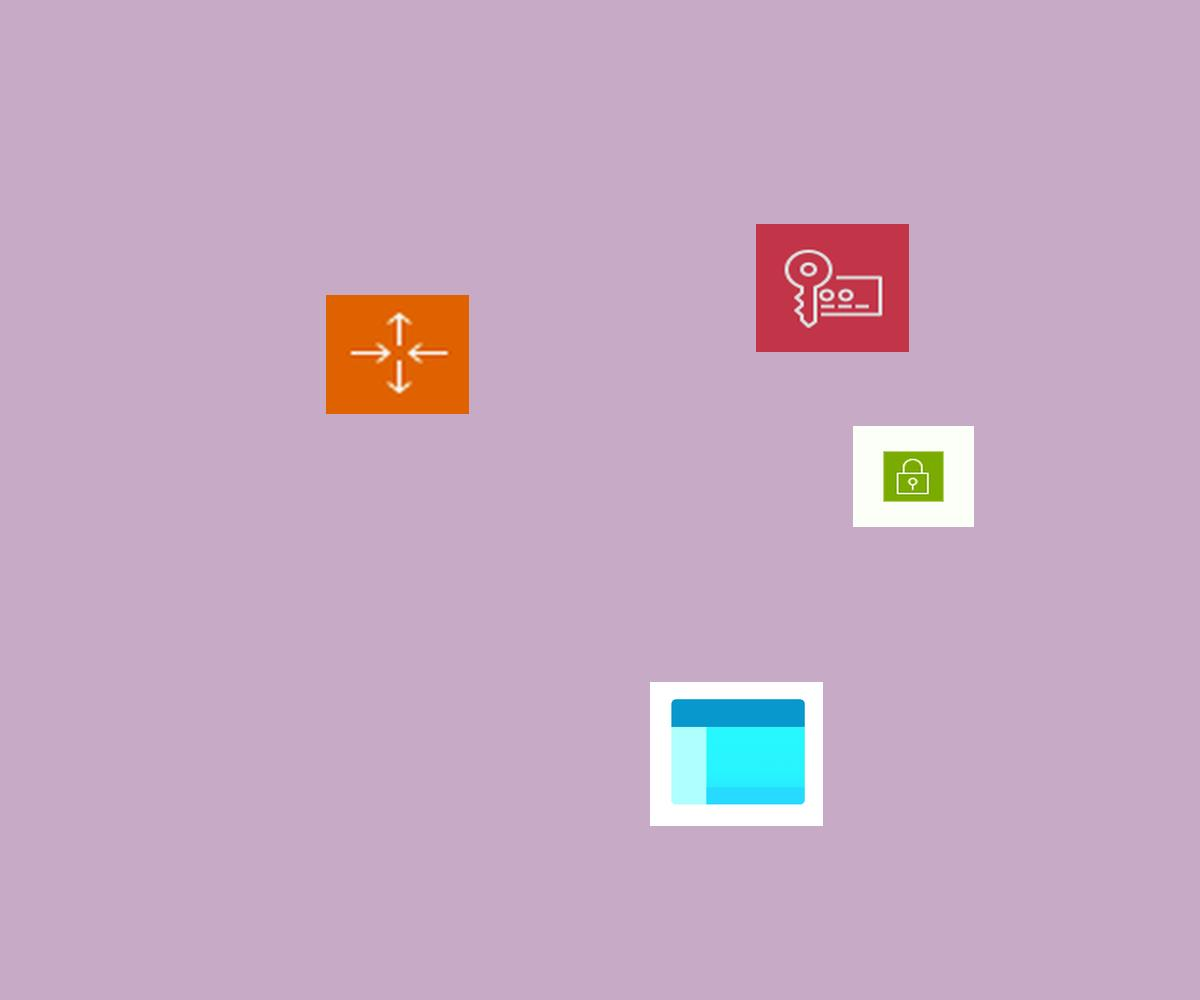AWS-Key-Management-Service: (756, 224, 909, 352)
AWS-Public-subnet: (853, 426, 974, 527)
AWS-Scaling-group: (326, 295, 469, 414)
Azure_management-portal: (650, 682, 823, 826)
